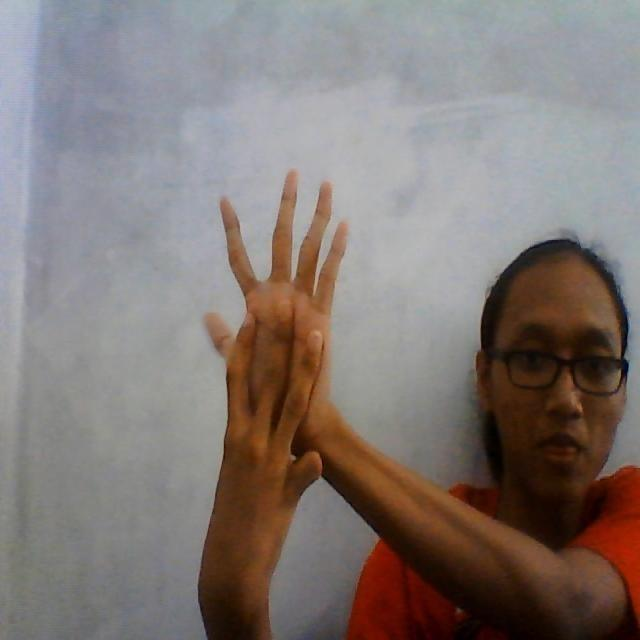M: (195, 165, 362, 474)
